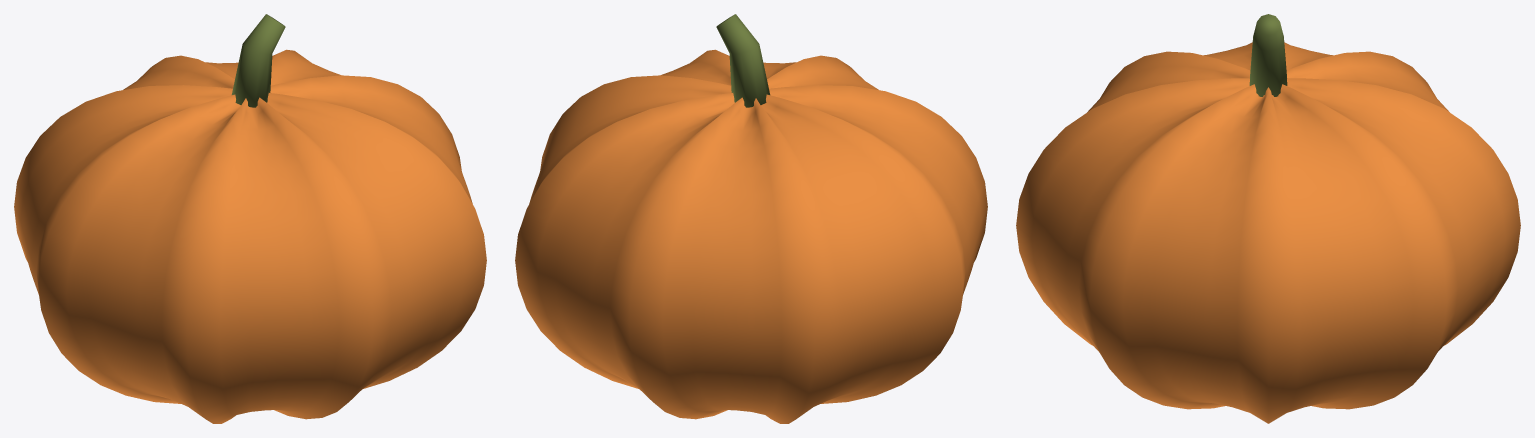
The model's file is pumpkin.fbx.
The picture shows the model from 3 angles, left to right: view 1: azimuth 30°, elevation 25°; view 2: azimuth 150°, elevation 25°; view 3: azimuth 270°, elevation 25°; orthographic projection. The views are drawn at different scales.
Visible parts, largest first — view 1: LH_pumpkin; view 2: LH_pumpkin; view 3: LH_pumpkin.
Boxes of the visible parts, x1=… form: LH_pumpkin: x1=14, y1=14, x2=486, y2=423; LH_pumpkin: x1=515, y1=14, x2=987, y2=423; LH_pumpkin: x1=1016, y1=14, x2=1520, y2=423.
Bounding box in the file's own units: 0.3 × 0.2545 × 0.3.
